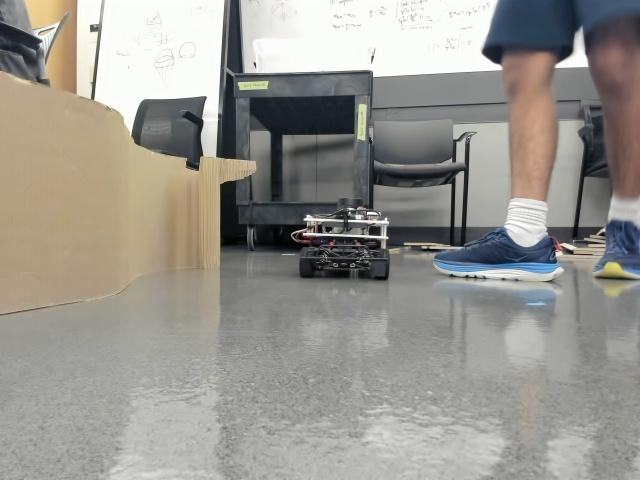Car: (292, 194, 389, 280)
